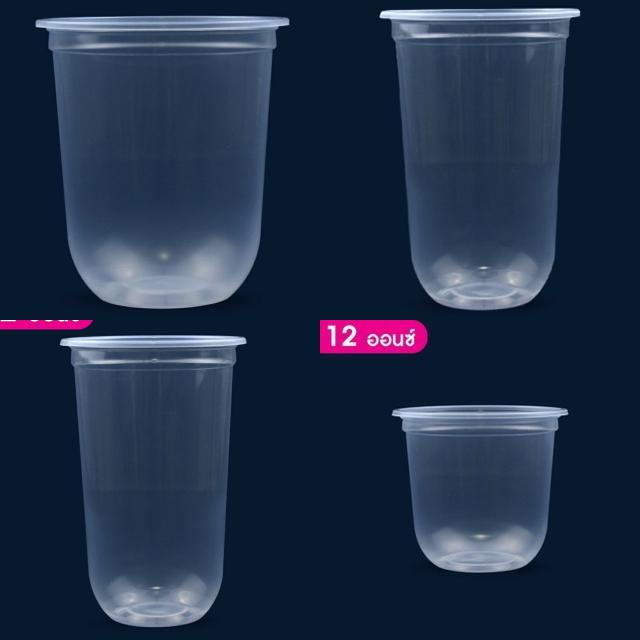Single-Use-Plastic: (36, 16, 289, 308), (381, 9, 579, 309), (61, 336, 245, 627), (392, 405, 568, 572)
